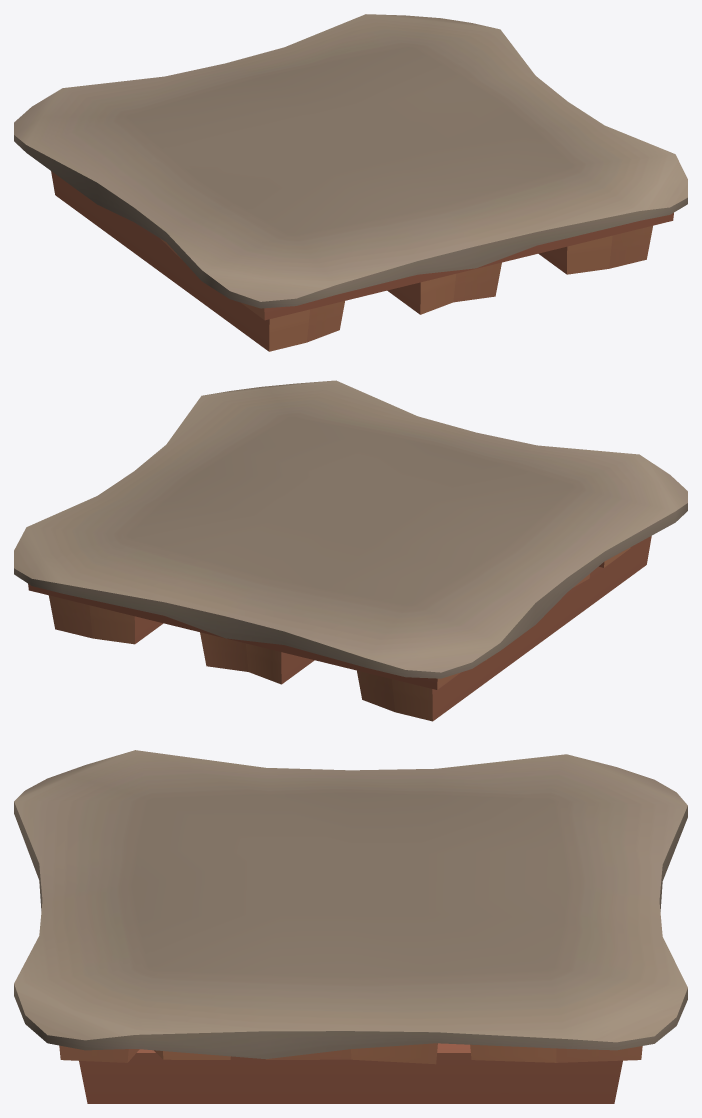
File: pallet_wood_covered_b.glb
3 renders of one model, top to bottom at view 1: azimuth 30°, elevation 25°; view 2: azimuth 150°, elevation 25°; view 3: azimuth 270°, elevation 25°, orthographic. The views are drawn at different scales.
Parts seen in each view (by area): view 1: Pallet_Wood_Covered_B; view 2: Pallet_Wood_Covered_B; view 3: Pallet_Wood_Covered_B.
Part boxes in pixels (x1,y1,x2,y2): Pallet_Wood_Covered_B: [14, 14, 687, 351]; Pallet_Wood_Covered_B: [14, 380, 687, 721]; Pallet_Wood_Covered_B: [14, 750, 687, 1103].
Bounding box in the file's own units: 1.72 × 0.2999 × 1.72.
1 material, 1 textured.
